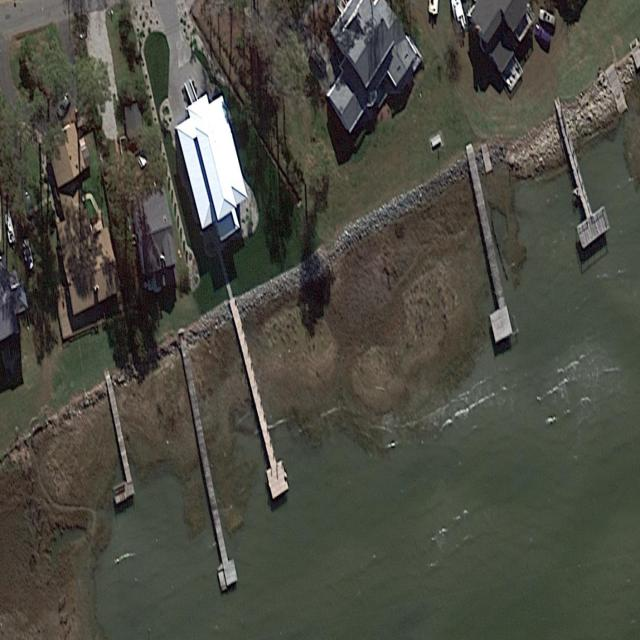ship: (20, 236, 36, 271)
small-vehicle: (310, 46, 329, 75), (533, 20, 553, 46), (21, 187, 36, 219), (56, 91, 72, 120), (539, 8, 557, 26)
